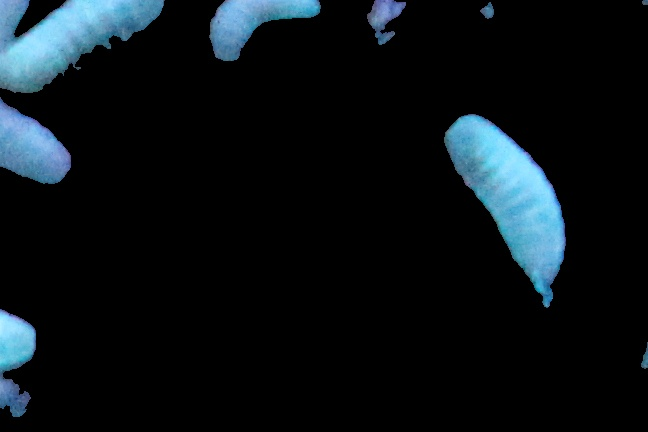larvae: (442, 114, 574, 304), (1, 1, 168, 91), (209, 1, 320, 63), (1, 99, 71, 180)
